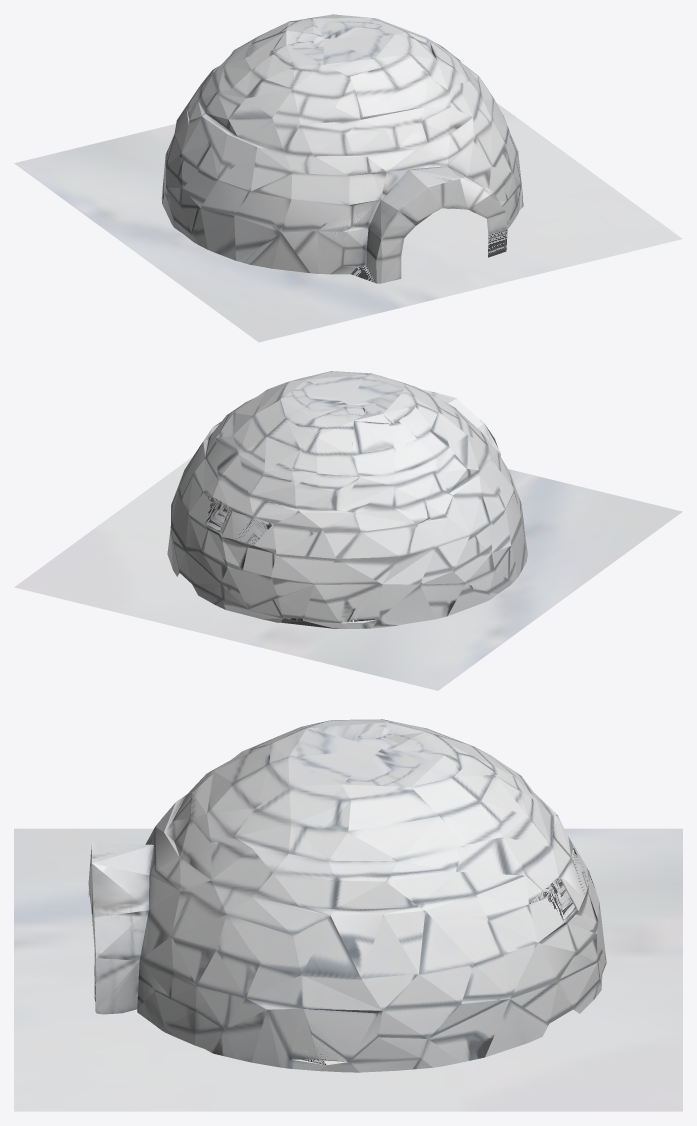
Rendered from iglu.fbx.
3 renders of one model, top to bottom at view 1: azimuth 30°, elevation 25°; view 2: azimuth 150°, elevation 25°; view 3: azimuth 270°, elevation 25°, orthographic. The views are drawn at different scales.
Visible parts, largest first — view 1: temp.002; view 2: temp.002; view 3: temp.002.
Boxes of the visible parts, x1,y1,x2,y2 form: temp.002: [14, 14, 682, 342]; temp.002: [14, 371, 682, 690]; temp.002: [14, 719, 682, 1111].
Size of the model in its own units: 200 by 79.56 by 200.
3 materials, 3 textured.
